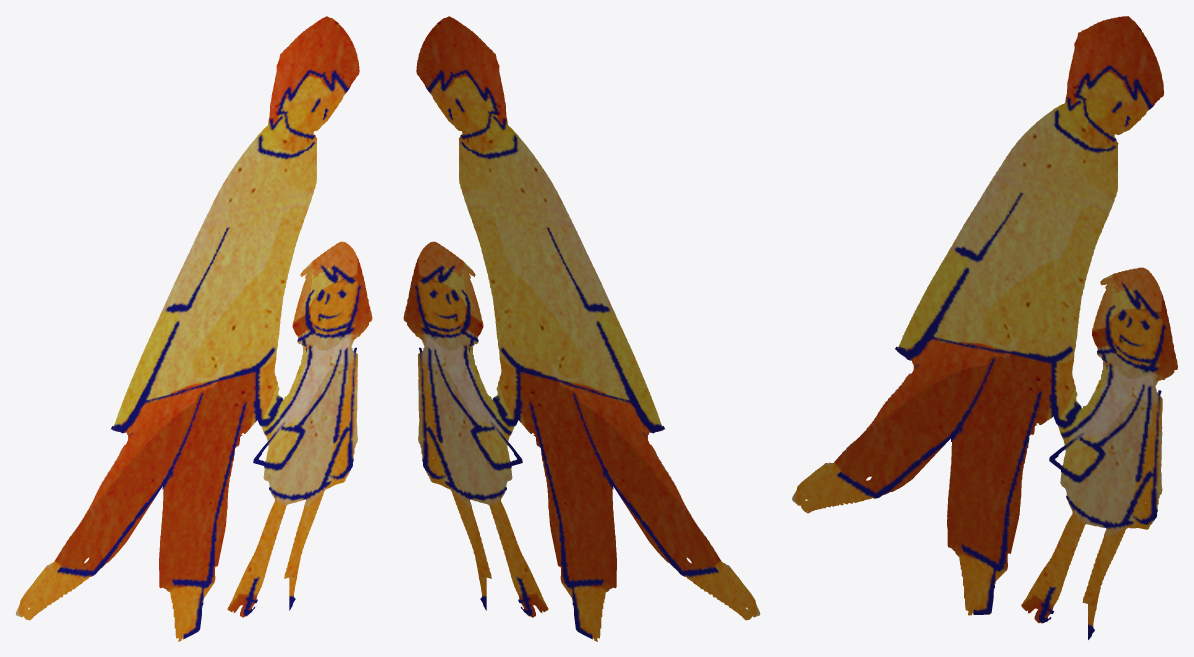
The model's file is people_01.fbx.
3 views of the same model, side by side, from view 1: azimuth 30°, elevation 25°; view 2: azimuth 150°, elevation 25°; view 3: azimuth 330°, elevation 25° (orthographic). The views are drawn at different scales.
Parts seen in each view (by area): view 1: people_01; view 2: people_01; view 3: people_01.
Part boxes in pixels (x1,y1,x2,y2): people_01: [15, 16, 372, 641]; people_01: [403, 16, 760, 641]; people_01: [792, 16, 1177, 639].
Size of the model in its own units: 71.06 by 112 by 1.33e-05.
1 material, 1 textured.
